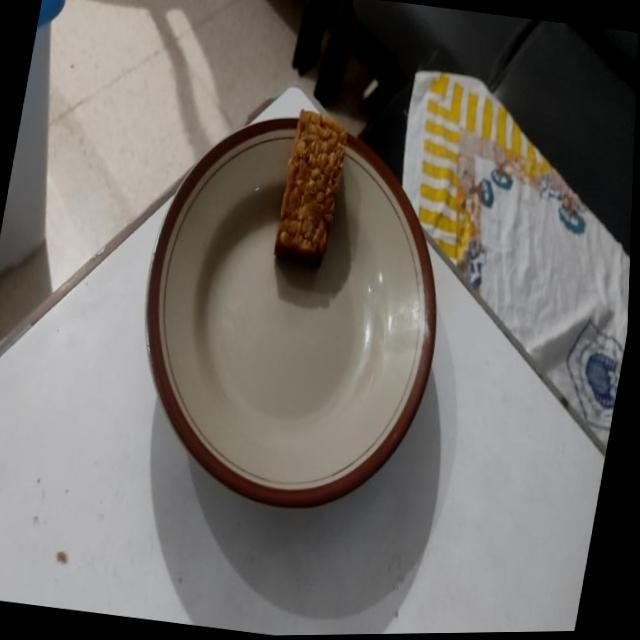tempe_goreng: (274, 110, 348, 264)
